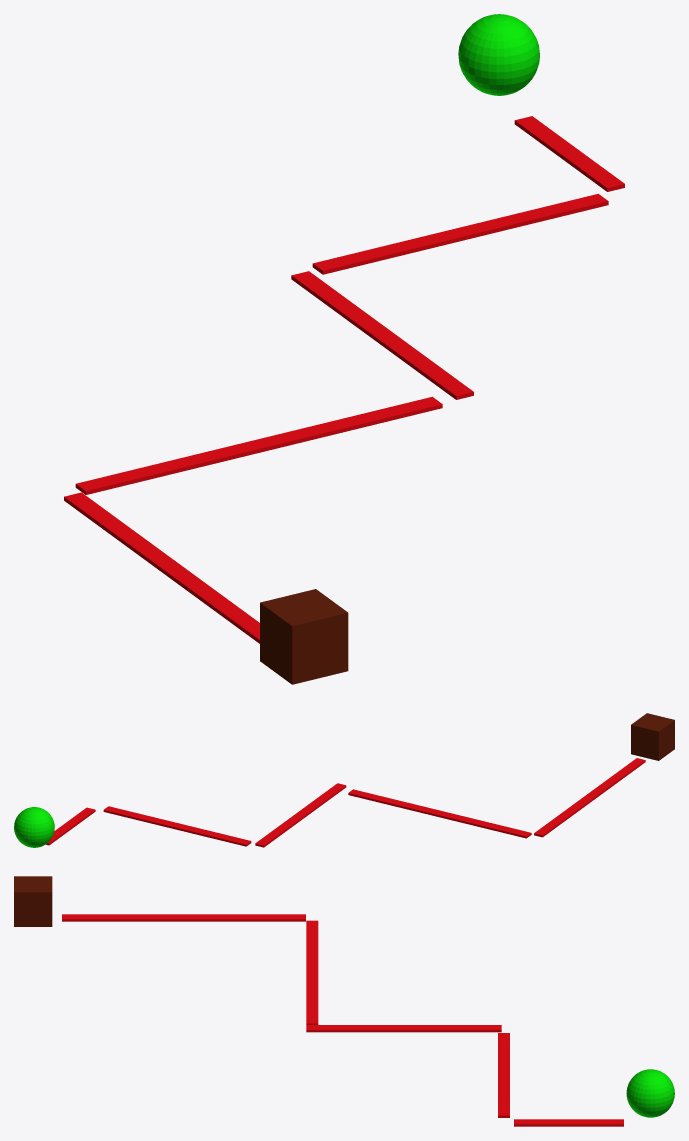
File: BtoC.glb
3 renders of one model, top to bottom at view 1: azimuth 30°, elevation 25°; view 2: azimuth 150°, elevation 25°; view 3: azimuth 270°, elevation 25°, orthographic. The views are drawn at different scales.
Visible parts, largest first — view 1: CDestination, StartPoint, B.003, BtoCDE, B.007, B.002, B; view 2: CDestination, B.003, StartPoint, B.007, BtoCDE, B.002, B; view 3: CDestination, B.007, StartPoint, B.002, B.003, BtoCDE, B.
Boxes of the visible parts, x1=… form: CDestination: x1=260, y1=589, x2=348, y2=684; StartPoint: x1=458, y1=14, x2=539, y2=95; B.003: x1=75, y1=396, x2=442, y2=494; BtoCDE: x1=312, y1=193, x2=608, y2=274; B.007: x1=64, y1=492, x2=259, y2=643; B.002: x1=291, y1=271, x2=473, y2=399; B: x1=514, y1=116, x2=624, y2=191; CDestination: x1=631, y1=713, x2=674, y2=760; B.003: x1=348, y1=789, x2=531, y2=838; StartPoint: x1=14, y1=807, x2=54, y2=847; B.007: x1=534, y1=758, x2=645, y2=837; BtoCDE: x1=103, y1=806, x2=251, y2=846; B.002: x1=255, y1=783, x2=346, y2=847; B: x1=46, y1=807, x2=95, y2=845; CDestination: x1=14, y1=876, x2=52, y2=926; B.007: x1=62, y1=914, x2=305, y2=921; StartPoint: x1=626, y1=1069, x2=674, y2=1117; B.002: x1=306, y1=1025, x2=501, y2=1032; B.003: x1=306, y1=920, x2=318, y2=1024; BtoCDE: x1=498, y1=1033, x2=509, y2=1117; B: x1=514, y1=1119, x2=623, y2=1126.
Size of the model in its own units: 0.5125 by 0.0583 by 0.635.
